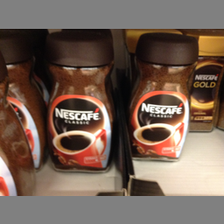coffee: (44, 32, 117, 173), (129, 32, 198, 163), (187, 31, 223, 136)
